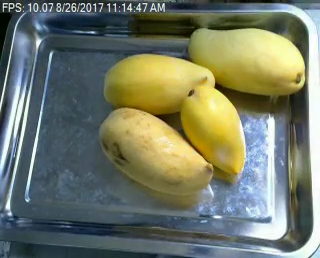Mango: (98, 108, 211, 196), (188, 25, 305, 94), (103, 52, 215, 112), (180, 84, 245, 173)
